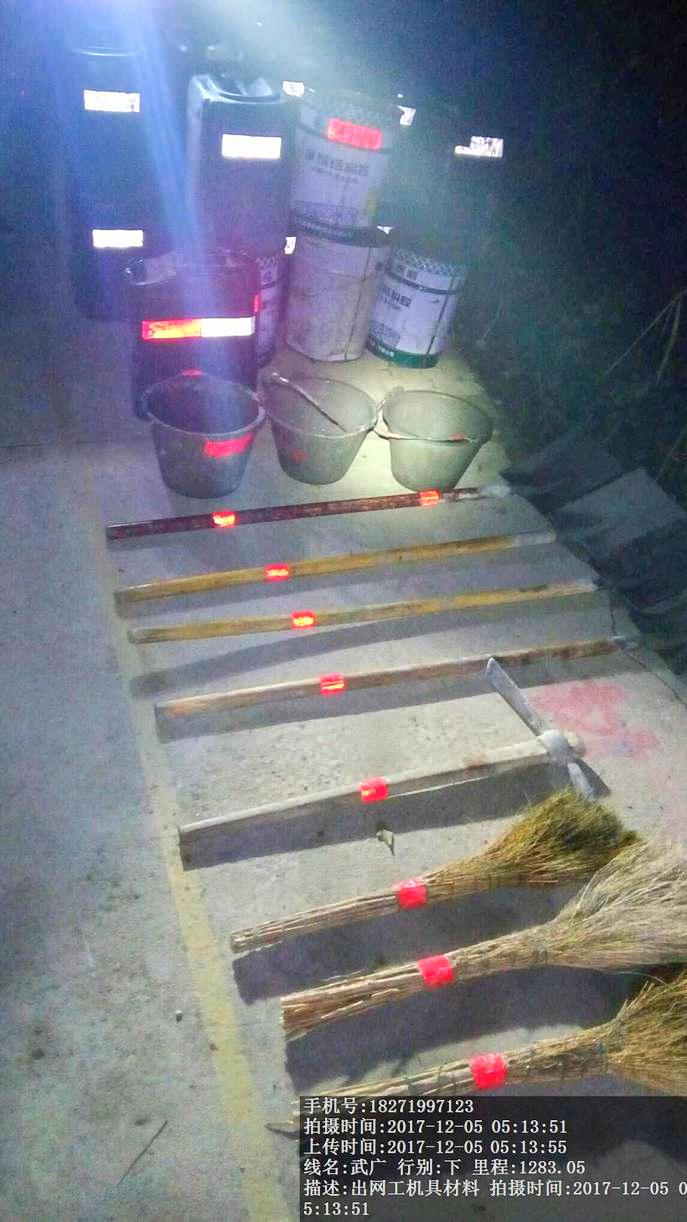DJ: (270, 861, 682, 1036), (229, 800, 602, 955)
SNT: (261, 373, 380, 482), (138, 379, 262, 482), (384, 384, 492, 485)
TQ: (121, 484, 657, 602)
